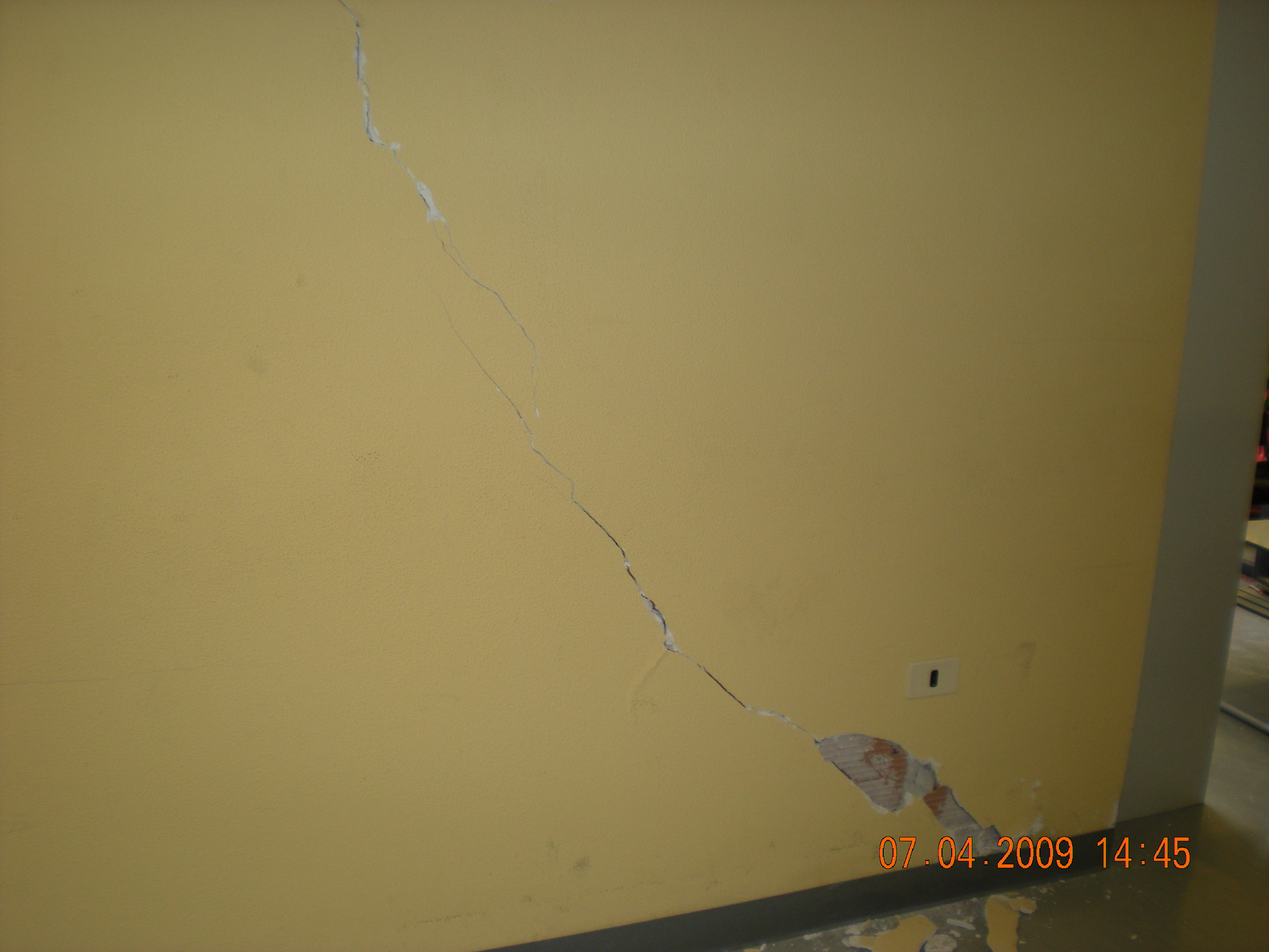Crack: (265, 13, 1043, 871)
Debris: (800, 894, 1086, 941)
